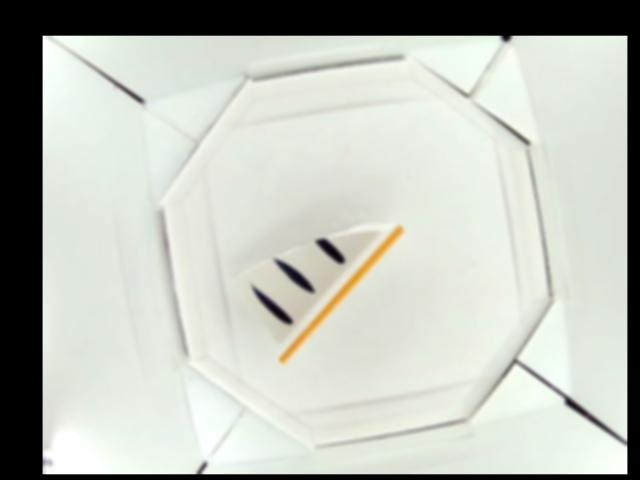China: (232, 222, 406, 365)
